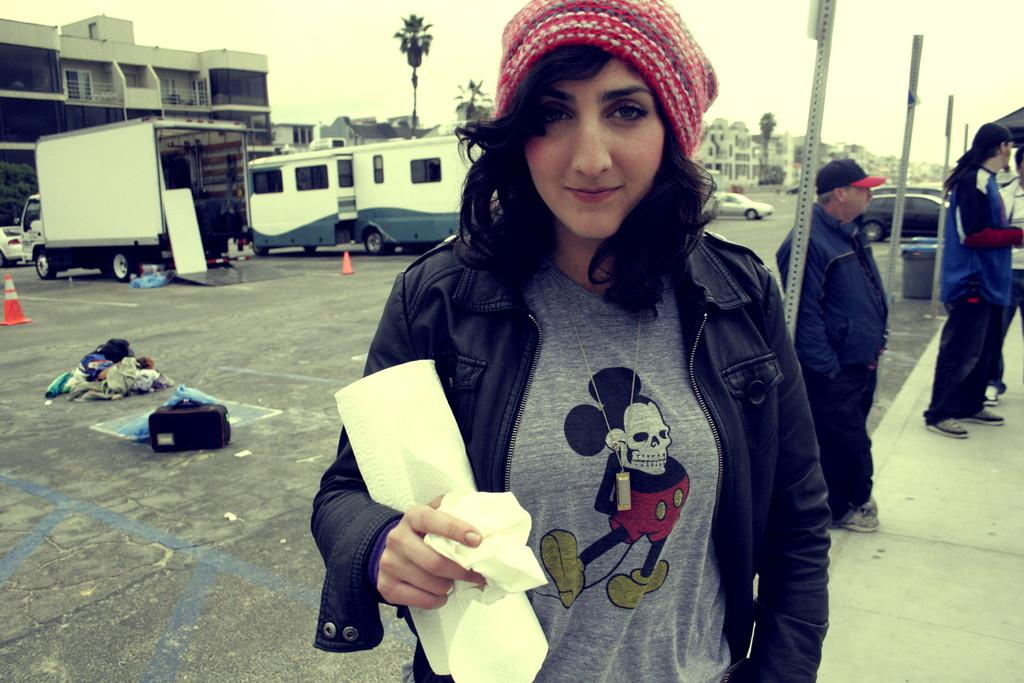Hat: (818, 156, 890, 197)
